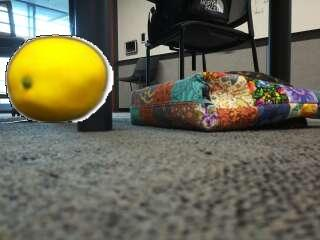lemon: (7, 37, 106, 121)
